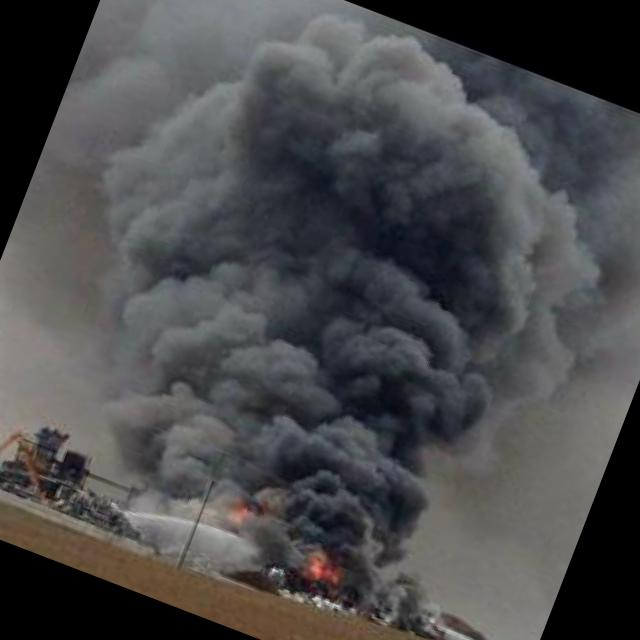fire: (298, 546, 350, 592), (223, 496, 254, 528)
smoke: (62, 21, 627, 616)
